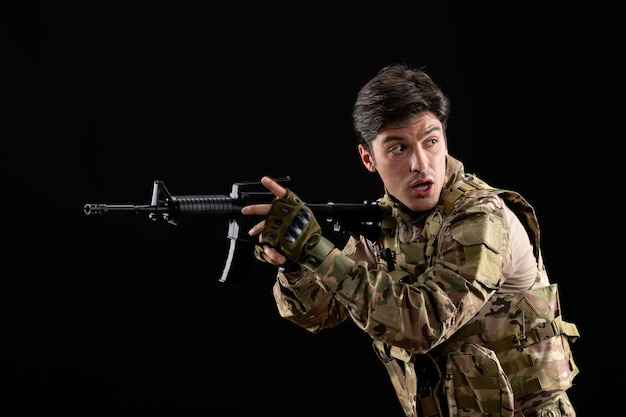gun: (81, 177, 393, 281)
